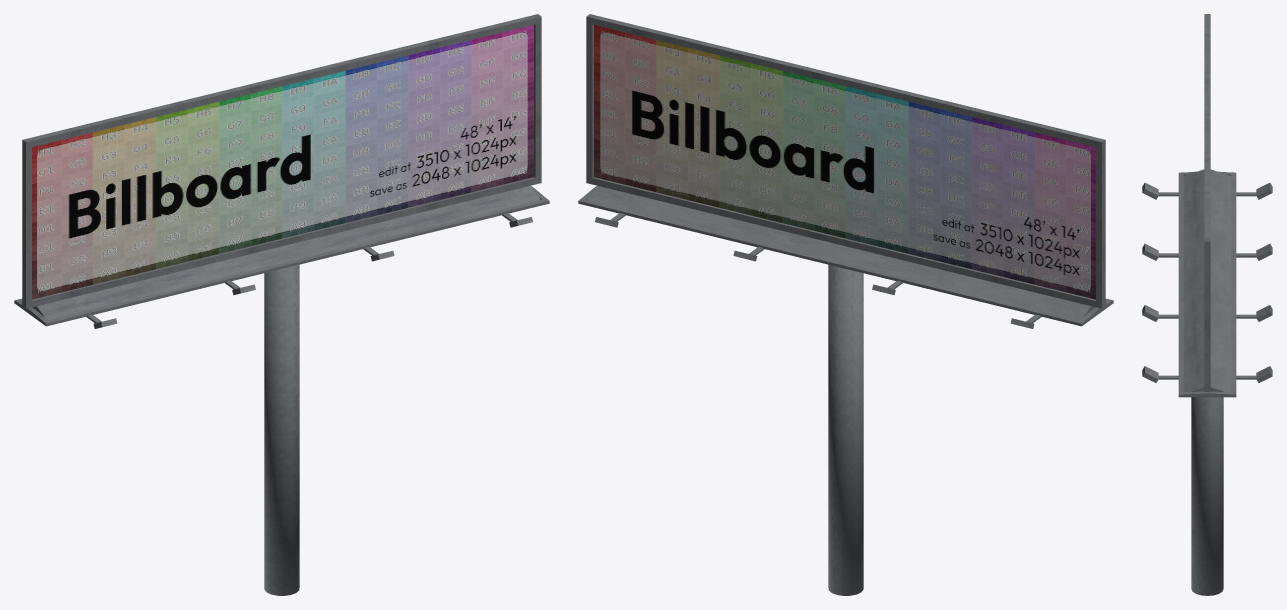
File: low_poly_billboard_sign_-_standard.glb
3 views of the same model, side by side, from view 1: azimuth 30°, elevation 25°; view 2: azimuth 150°, elevation 25°; view 3: azimuth 270°, elevation 25° (orthographic). The views are drawn at different scales.
Visible parts, largest first — view 1: billboard-1.baked_0; view 2: billboard-1.baked_0; view 3: billboard-1.baked_0.
Part boxes in pixels (x1=…): billboard-1.baked_0: x1=14, y1=14, x2=549, y2=595; billboard-1.baked_0: x1=578, y1=14, x2=1113, y2=595; billboard-1.baked_0: x1=1142, y1=14, x2=1272, y2=595.
Bounding box in the file's own units: 18.68 × 17.66 × 4.51.
Materials: 2 (2 with a texture image).
